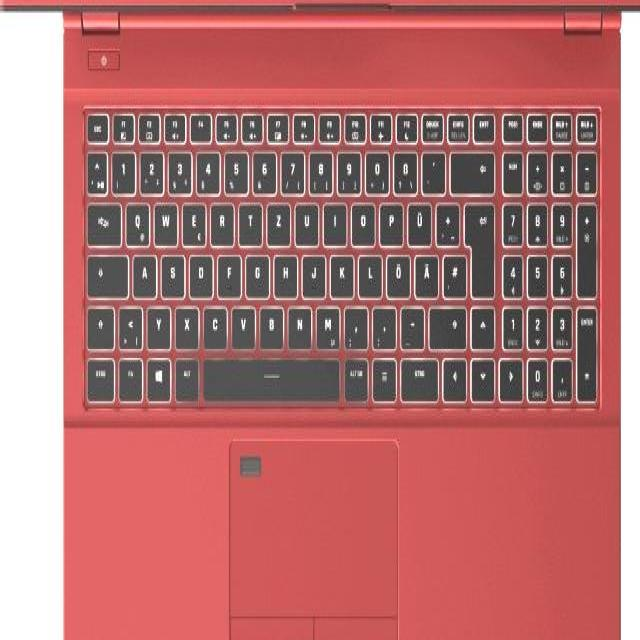0: (362, 145, 387, 190)
1: (109, 145, 134, 190)
2: (136, 145, 162, 190)
3: (165, 145, 190, 190)
4: (194, 145, 218, 190)
5: (222, 145, 246, 190)
6: (249, 145, 275, 190)
7: (278, 145, 303, 190)
8: (306, 145, 330, 190)
9: (334, 145, 359, 190)
a: (129, 248, 155, 293)
accent: (419, 145, 443, 188)
ae: (411, 248, 436, 293)
alt-left: (172, 351, 197, 396)
altgr-right: (341, 351, 366, 396)
b: (256, 299, 281, 344)
c: (200, 300, 225, 344)
caret: (84, 145, 105, 190)
comma: (341, 300, 365, 344)
d: (186, 248, 211, 293)
del: (447, 145, 492, 188)
e: (179, 196, 203, 243)
enter: (460, 195, 492, 293)
f: (214, 248, 239, 293)
g: (242, 248, 267, 293)
h: (270, 248, 295, 293)
hash: (439, 246, 464, 293)
i: (320, 196, 344, 241)
j: (299, 246, 323, 293)
k: (327, 246, 352, 293)
keyboard: (71, 83, 607, 418)
l: (355, 248, 380, 293)
less: (115, 299, 140, 346)
m: (312, 299, 337, 344)
minus: (397, 300, 422, 344)
n: (285, 299, 309, 344)
o: (348, 196, 373, 241)
oe: (383, 248, 408, 293)
p: (376, 196, 401, 241)
plus: (432, 196, 457, 243)
point: (369, 300, 394, 344)
q: (122, 196, 147, 243)
r: (207, 196, 232, 243)
s: (158, 248, 182, 293)
shift-left: (83, 300, 112, 345)
shift-lock: (83, 248, 126, 293)
shift-right: (425, 299, 464, 346)
space: (200, 351, 337, 398)
ss: (390, 145, 415, 190)
strg-left: (82, 351, 113, 398)
strg-right: (397, 351, 437, 398)
t: (236, 196, 260, 241)
tab: (83, 196, 119, 243)
u: (292, 196, 316, 243)
ue: (404, 196, 429, 243)
v: (228, 299, 253, 344)
w: (151, 196, 176, 243)
x: (172, 300, 197, 344)
y: (144, 300, 169, 345)
z: (264, 196, 288, 241)
